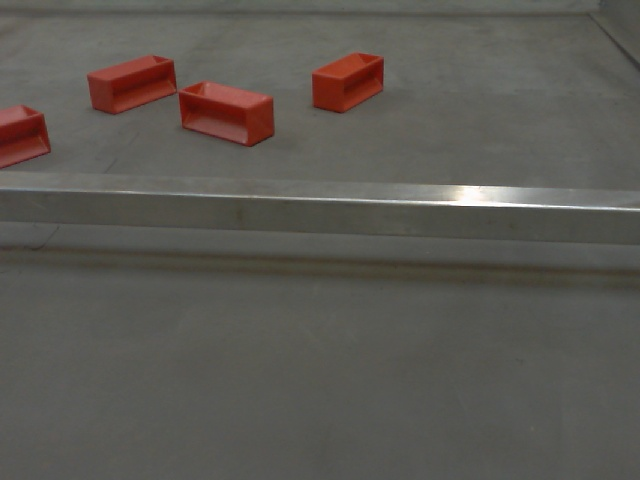RedSample: (176, 76, 279, 145), (305, 50, 389, 118), (85, 53, 177, 115), (1, 102, 55, 172)
